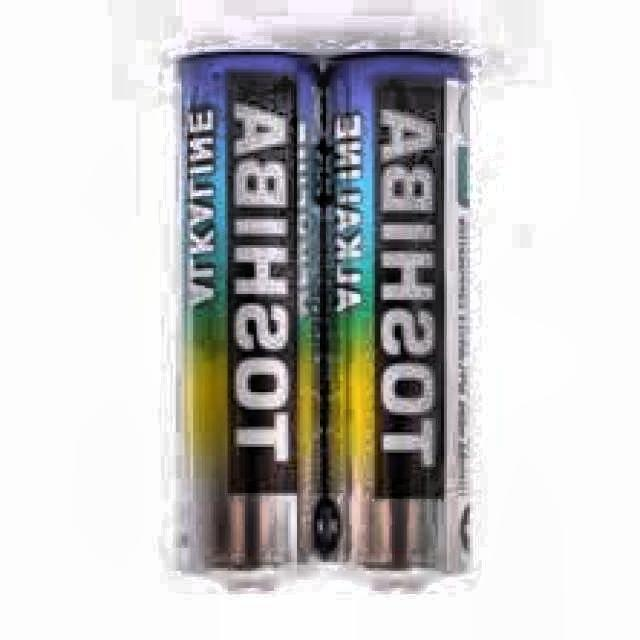battery: (179, 54, 470, 591)
